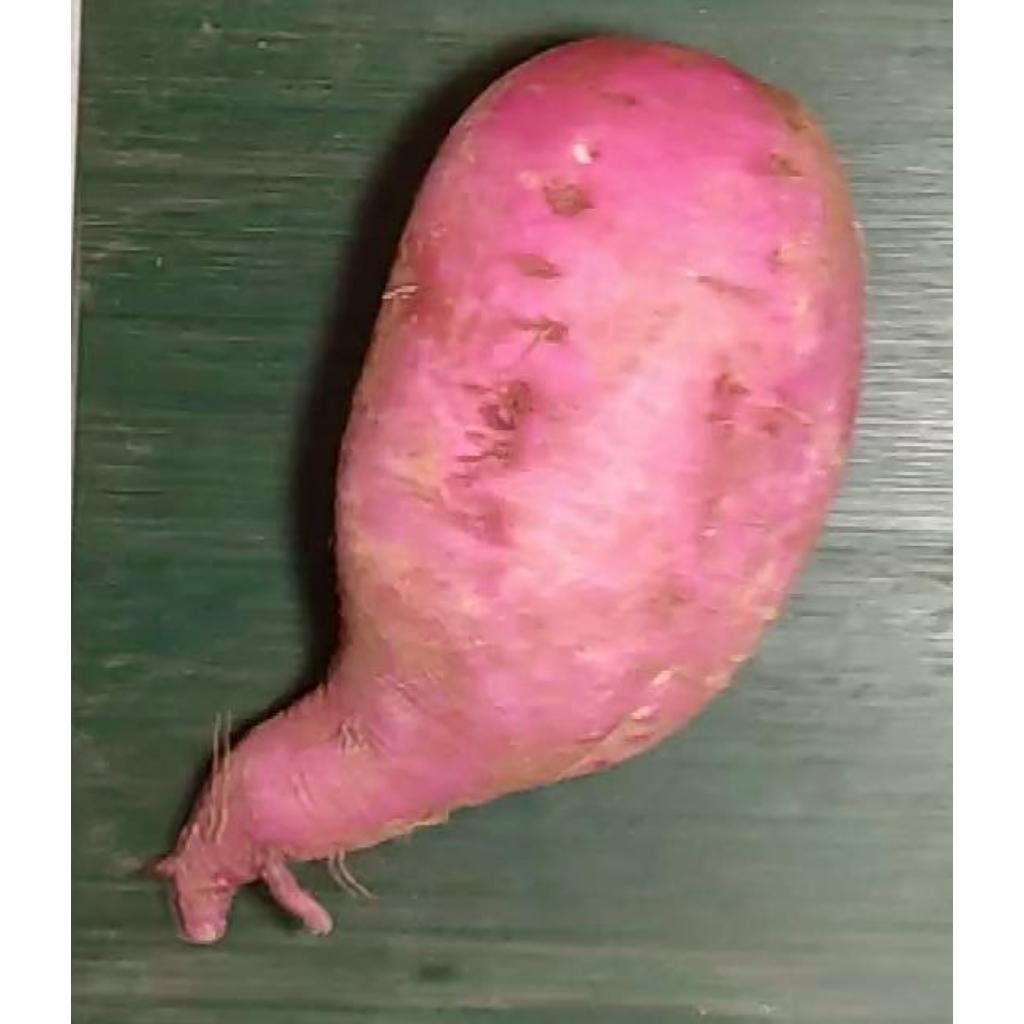Sweet Potato: (140, 34, 867, 945)
